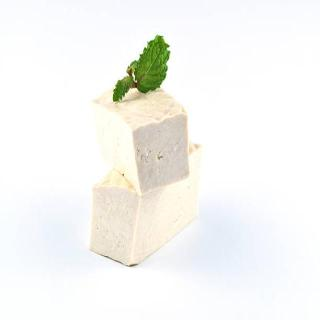Tahu: (85, 72, 205, 274)
